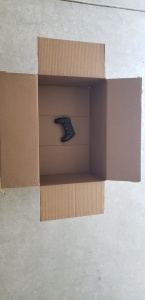innerbox: (39, 75, 105, 181)
outerbox: (1, 37, 141, 221)
product: (53, 115, 77, 144)
